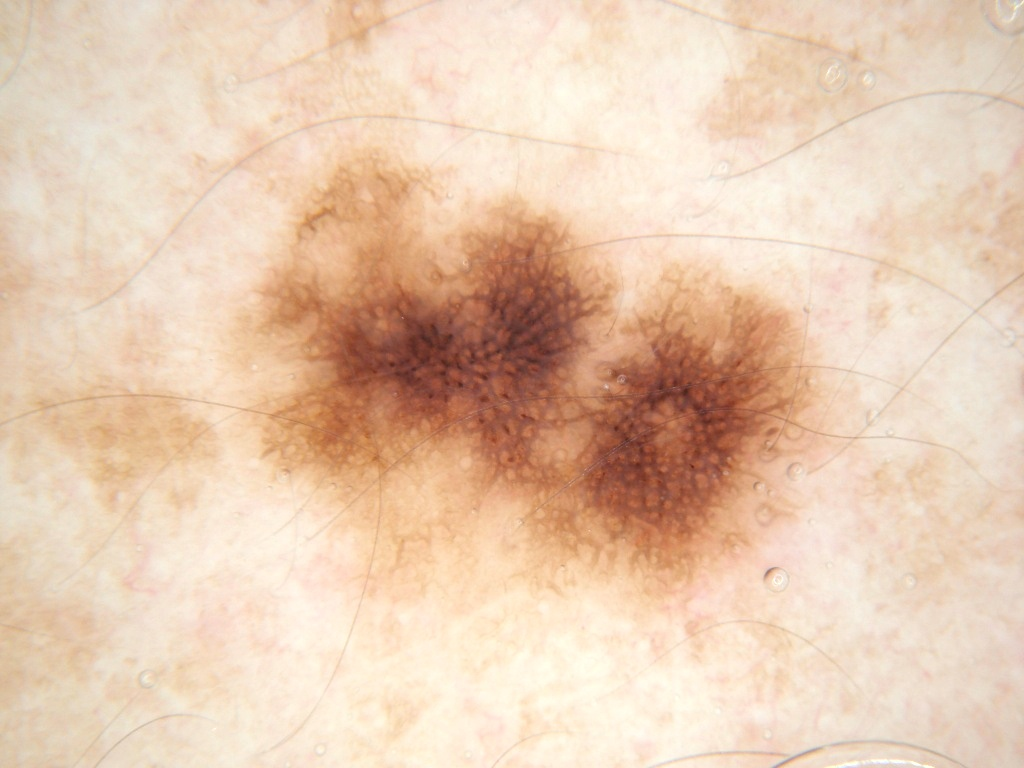Detected Lesion: (242, 142, 831, 603)
